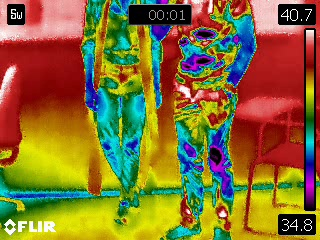human: (152, 1, 261, 240), (75, 1, 169, 223)
